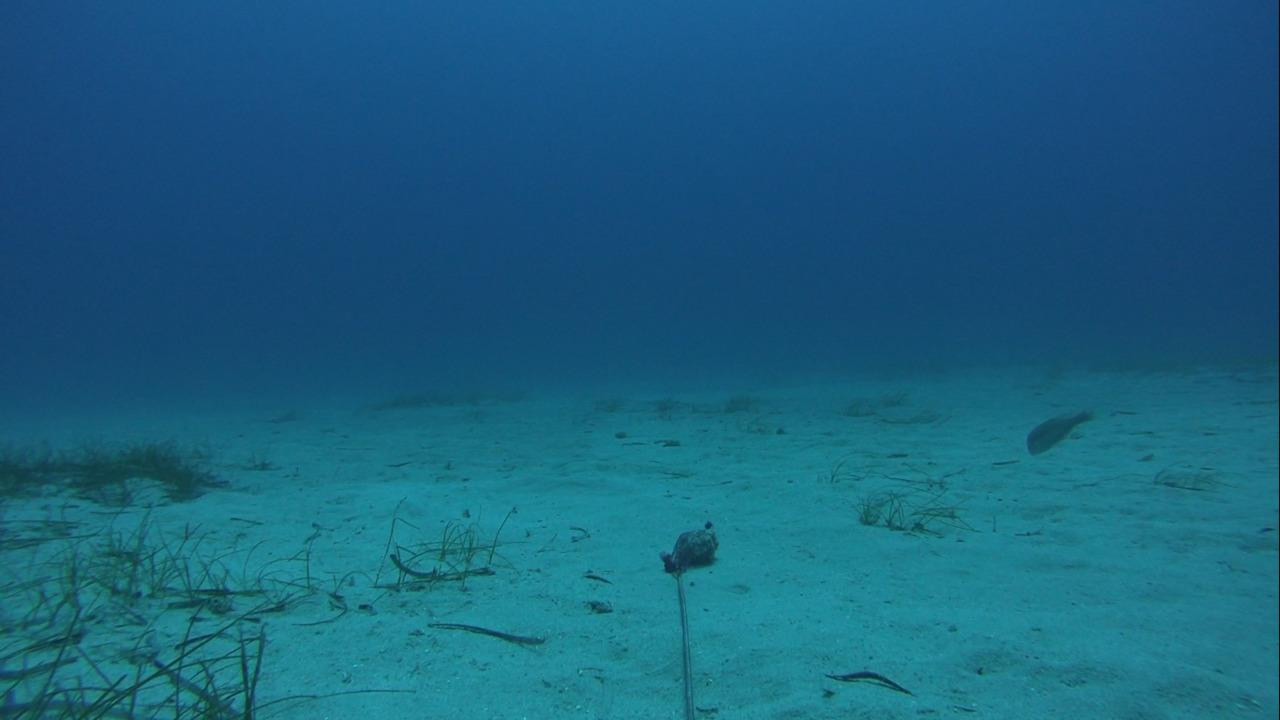raor: (1024, 408, 1093, 455)
